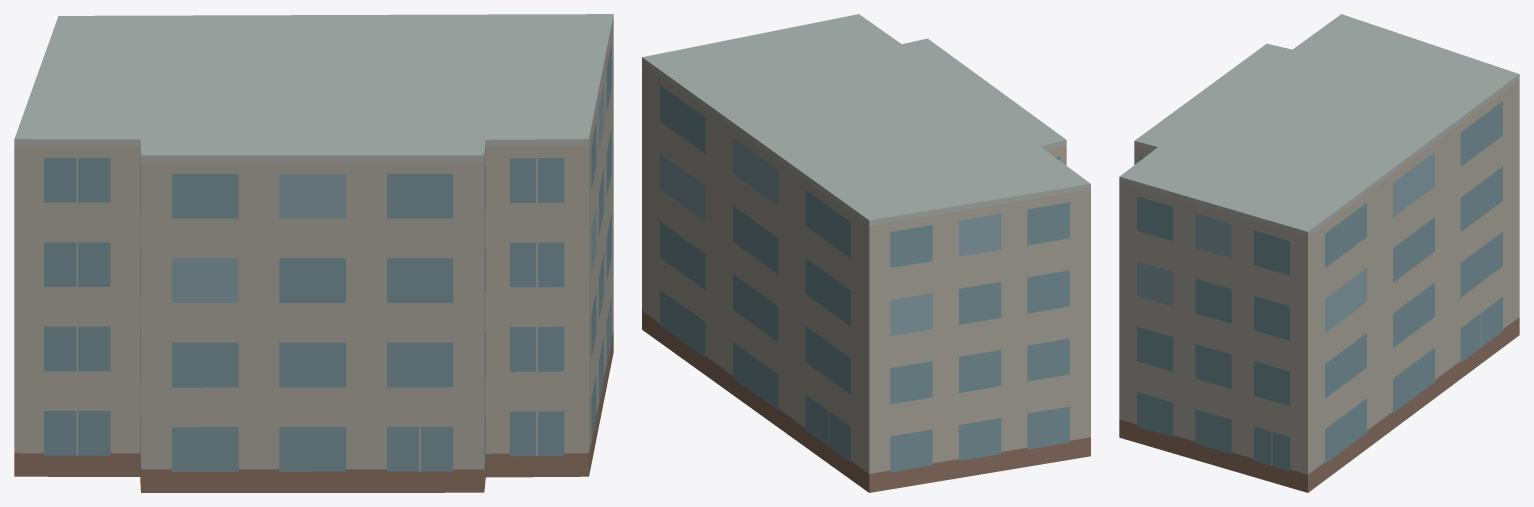
File: survey-upis-32676542.glb
3 views of the same model, side by side, from view 1: azimuth 30°, elevation 25°; view 2: azimuth 150°, elevation 25°; view 3: azimuth 270°, elevation 25° (orthographic). The views are drawn at different scales.
Parts seen in each view (by area): view 1: survey-upis-32676542.tmp; view 2: survey-upis-32676542.tmp; view 3: survey-upis-32676542.tmp.
Boxes of the visible parts, box(x1,y1,x2,y2) form: survey-upis-32676542.tmp: box(14, 14, 613, 492); survey-upis-32676542.tmp: box(642, 14, 1090, 492); survey-upis-32676542.tmp: box(1119, 14, 1519, 492).
Size of the model in its own units: 22.21 by 12.4 by 17.24.
